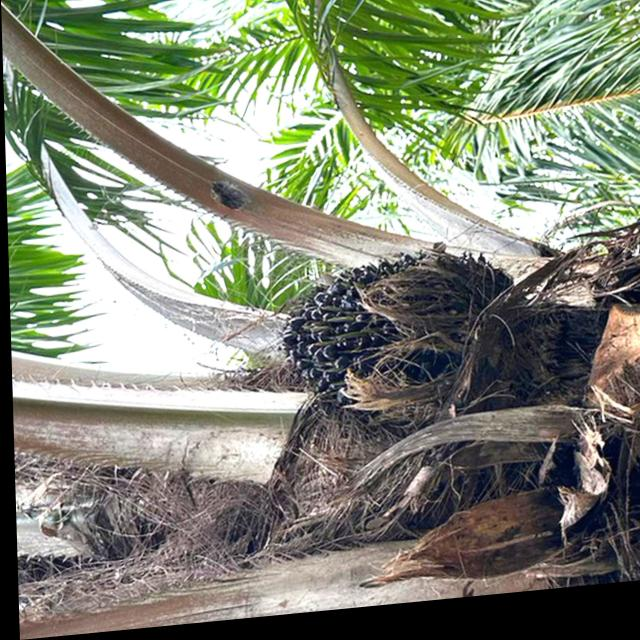unripe: (263, 248, 525, 438)
